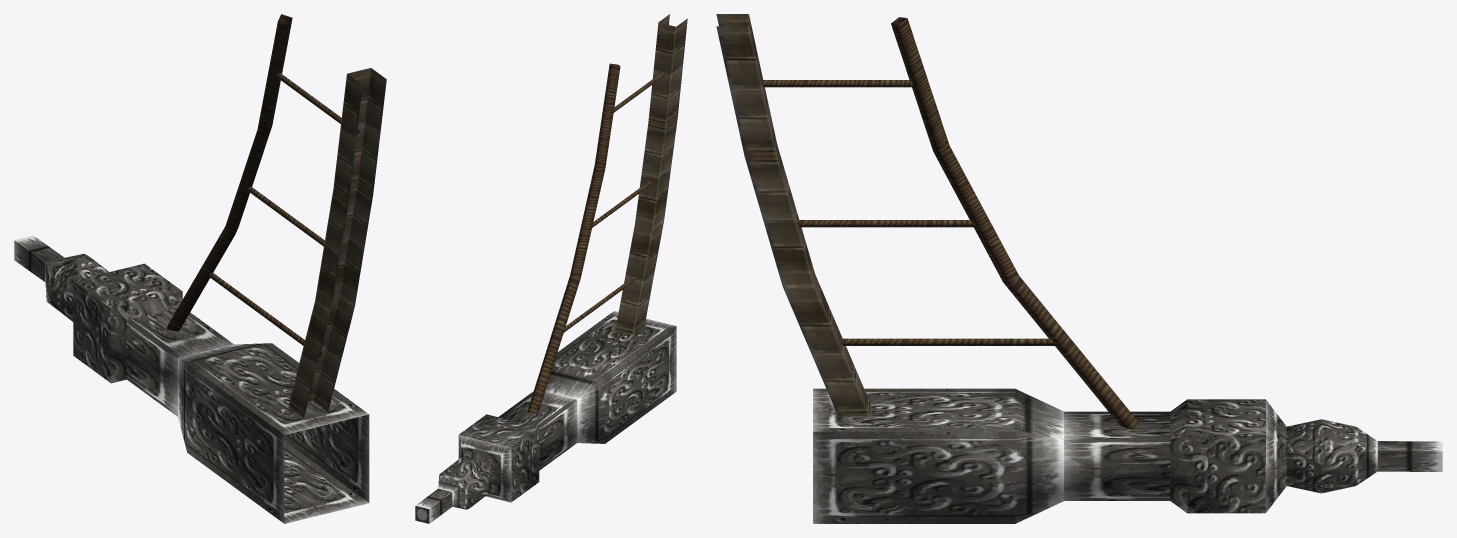
3 views of the same model, side by side, from view 1: azimuth 30°, elevation 25°; view 2: azimuth 150°, elevation 25°; view 3: azimuth 270°, elevation 25° (orthographic). The views are drawn at different scales.
Visible parts, largest first — view 1: smdimport; view 2: smdimport; view 3: smdimport.
Boxes of the visible parts, bbox=[...] form: smdimport: bbox=[14, 14, 386, 523]; smdimport: bbox=[415, 14, 687, 523]; smdimport: bbox=[716, 14, 1442, 523].
Bounding box in the file's own units: 70.92 × 372 × 506.
